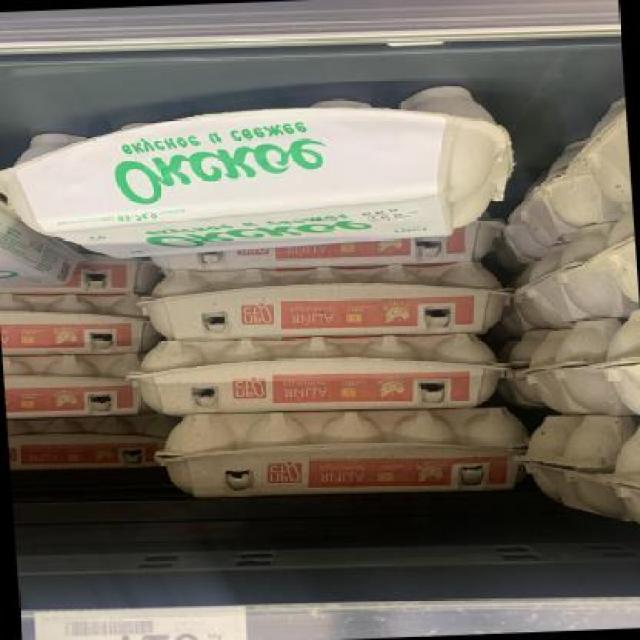egg: (0, 78, 532, 264), (150, 404, 532, 506), (126, 327, 506, 421), (128, 258, 508, 344), (0, 291, 160, 358), (6, 412, 171, 474), (2, 353, 136, 418)
